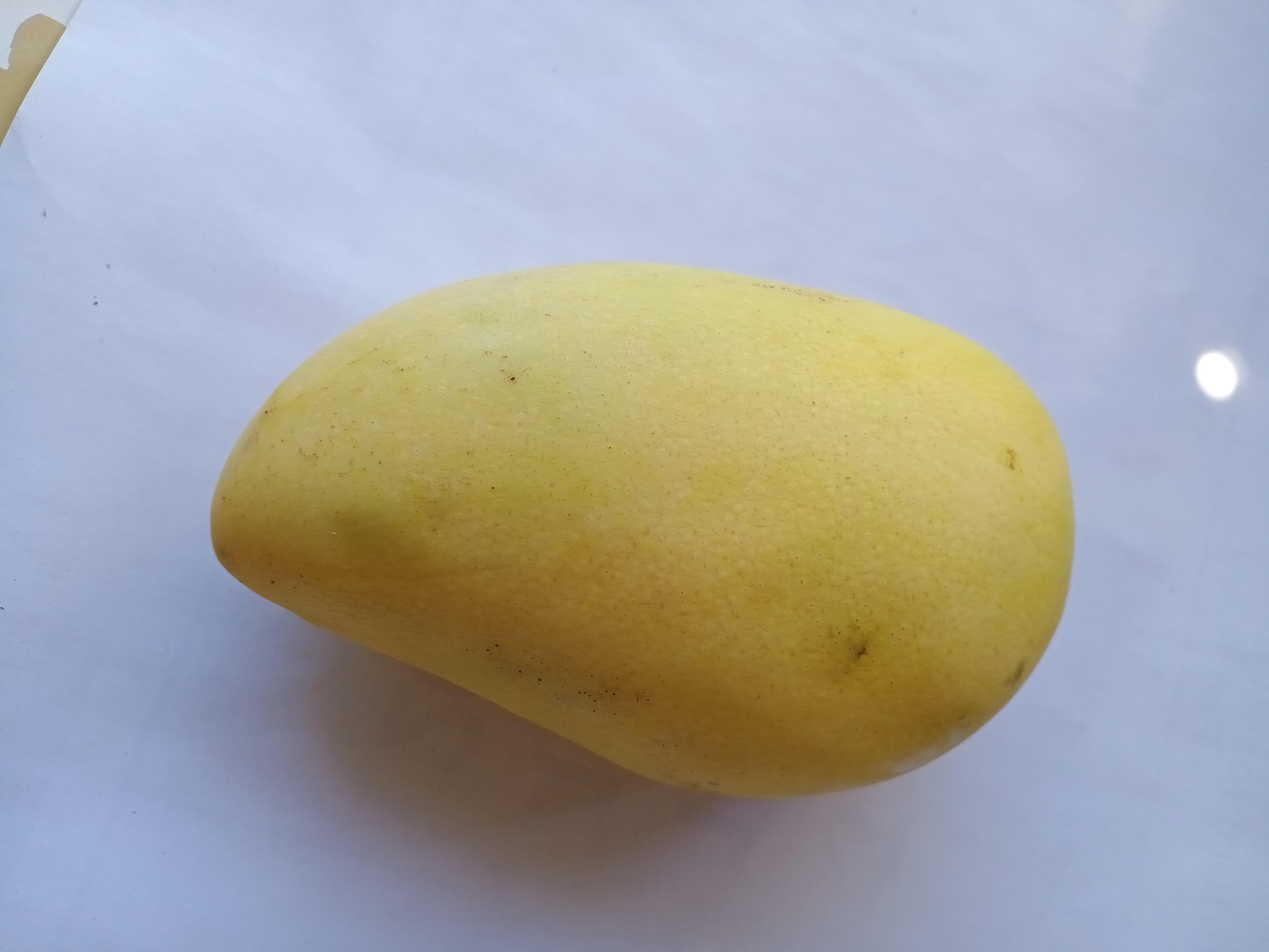Mango Ripe: (171, 231, 1129, 851)
